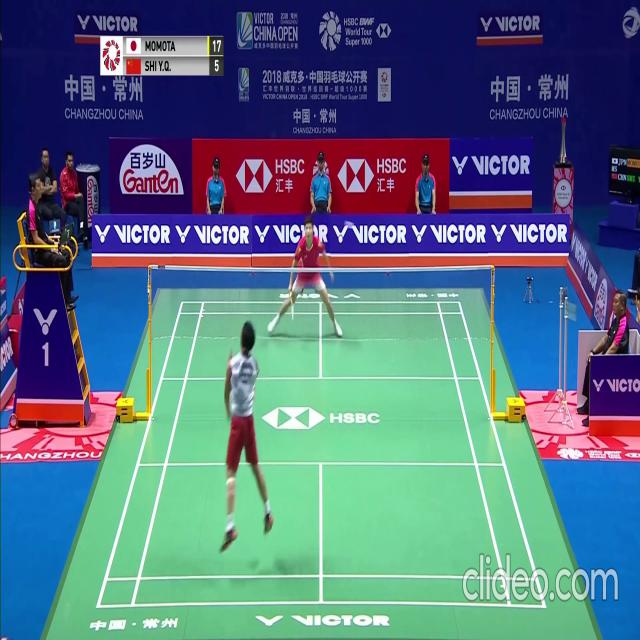Shuttlecock: (349, 220, 354, 228)
